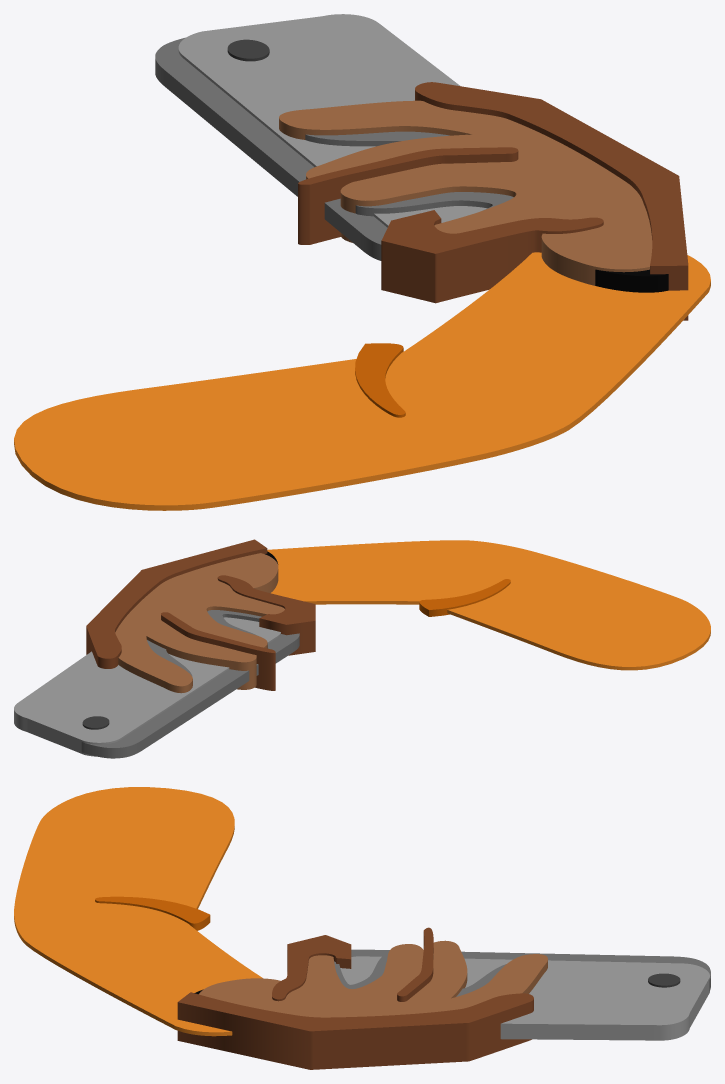
File: emoji_u1f933_1f3fe.glb
3 views of the same model, one above another, from view 1: azimuth 30°, elevation 25°; view 2: azimuth 150°, elevation 25°; view 3: azimuth 270°, elevation 25° (orthographic). The views are drawn at different scales.
Visible parts, largest first — view 1: emoji_u1f933_1f3fe; view 2: emoji_u1f933_1f3fe; view 3: emoji_u1f933_1f3fe.
Boxes of the visible parts, left/top/right/bottom form: emoji_u1f933_1f3fe: left=14, top=14, right=710, bottom=510; emoji_u1f933_1f3fe: left=14, top=539, right=710, bottom=758; emoji_u1f933_1f3fe: left=14, top=787, right=710, bottom=1069.
Bounding box in the file's own units: 0.0291 × 0.0022 × 0.0327.
